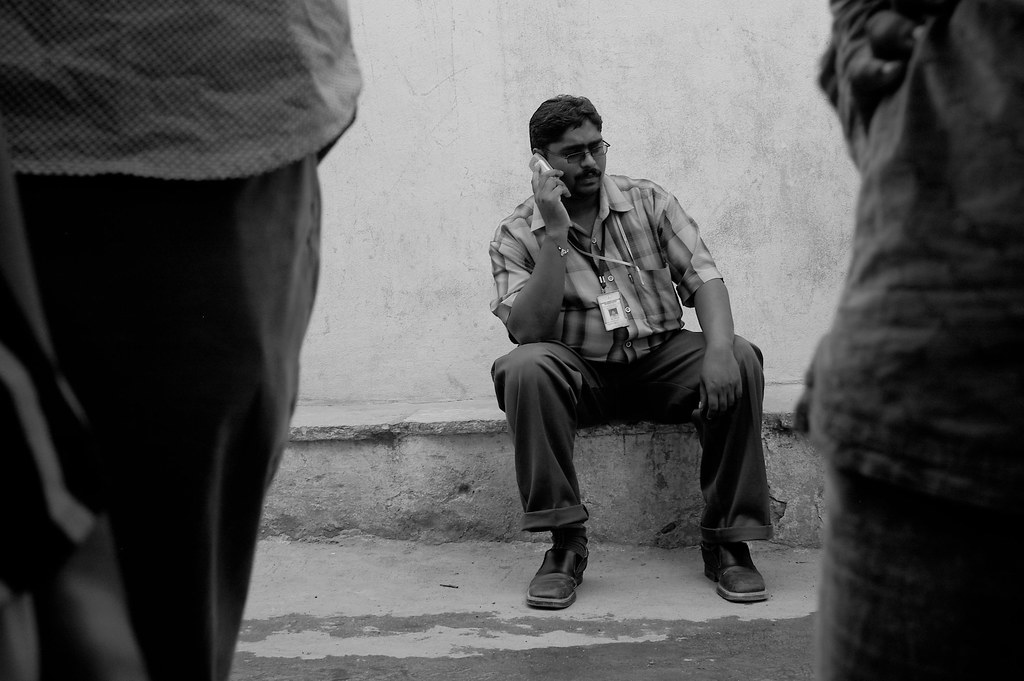phone: (518, 156, 571, 214)
talk: (526, 126, 611, 226)
